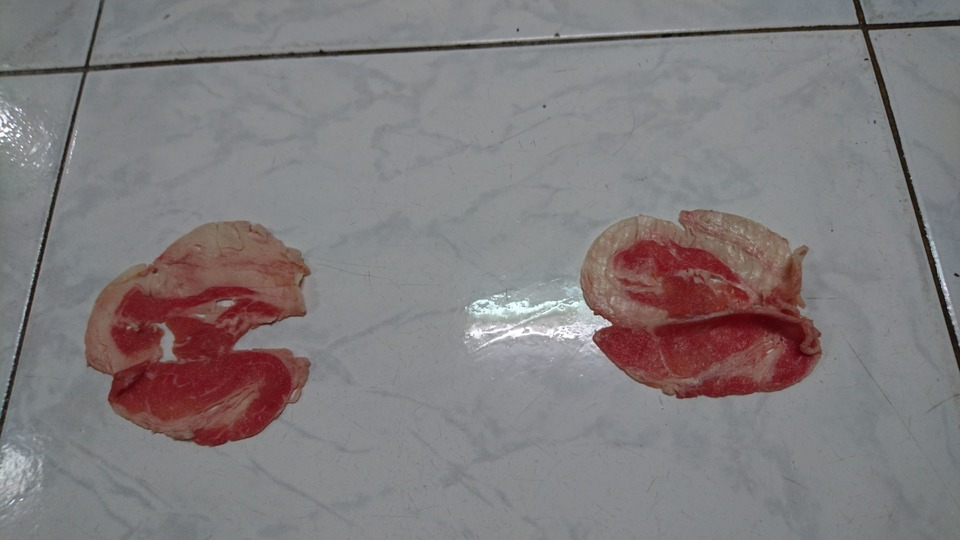restructured meat: (84, 218, 314, 444), (582, 189, 812, 415)
